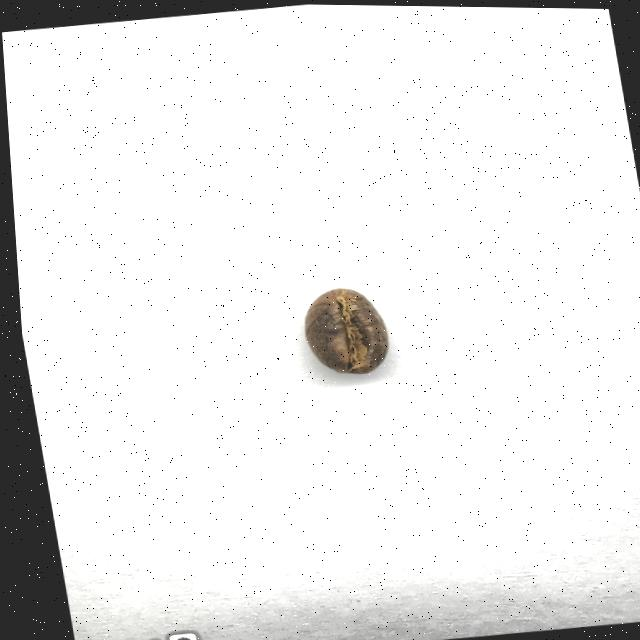Black: (292, 281, 390, 377)
